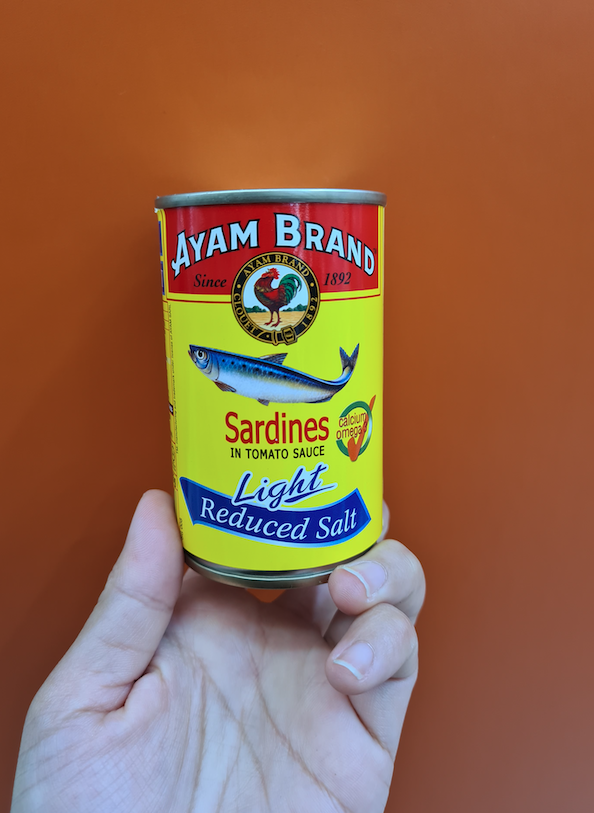Canned_Sardines_and_Mackerel: (167, 194, 386, 553)
